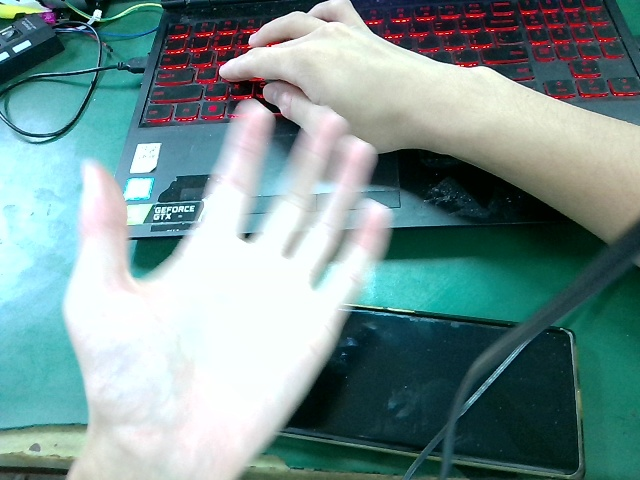paper: (43, 96, 408, 480)
